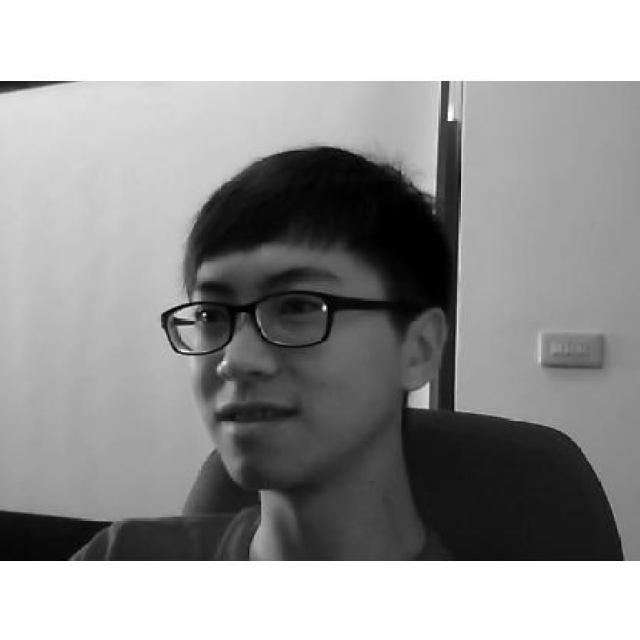attentif: (162, 144, 444, 490)
